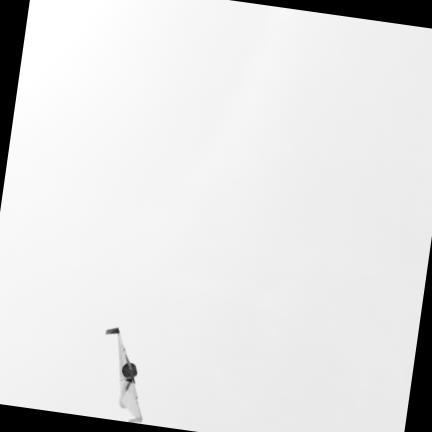Shahed: (105, 328, 141, 422)
